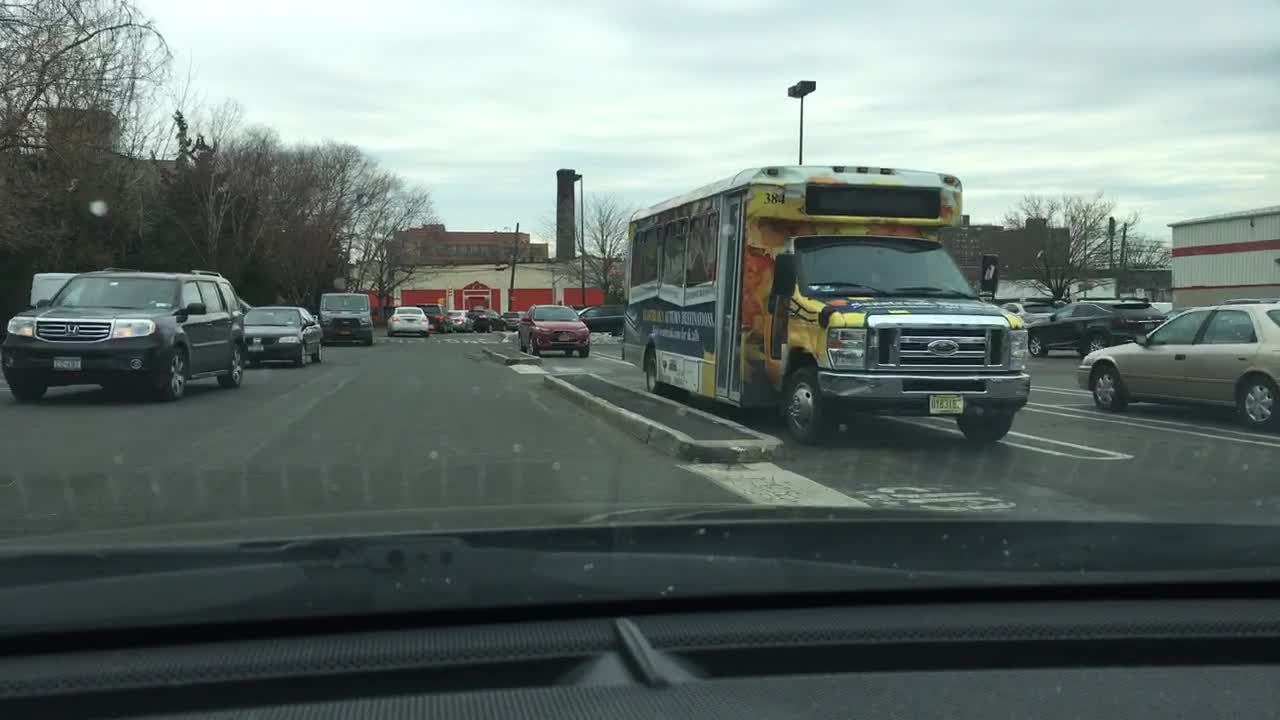car: (2, 266, 244, 407), (1075, 297, 1280, 427), (1024, 293, 1167, 359), (240, 304, 327, 365), (518, 304, 591, 356), (319, 292, 374, 344), (385, 307, 432, 339), (580, 303, 625, 335), (1004, 298, 1056, 317), (419, 303, 445, 333), (477, 316, 506, 335), (506, 310, 531, 326), (446, 313, 469, 330), (469, 307, 495, 315)
truck: (620, 162, 1032, 445), (31, 272, 85, 302)
